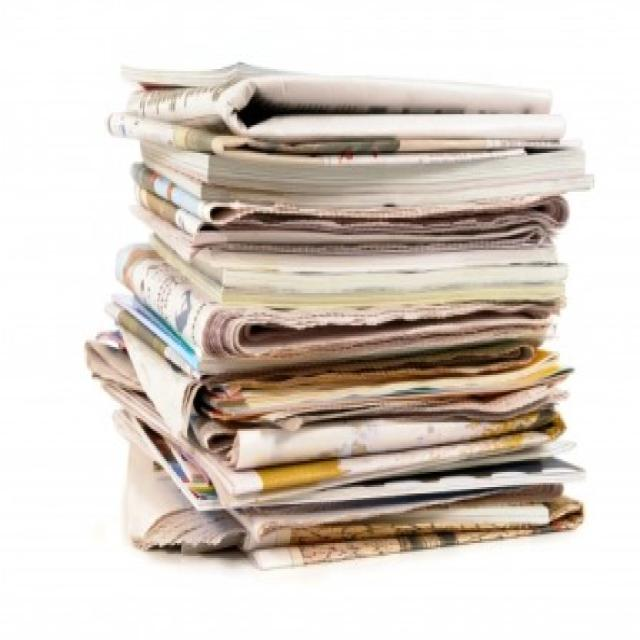Kertas: (92, 41, 605, 580)
